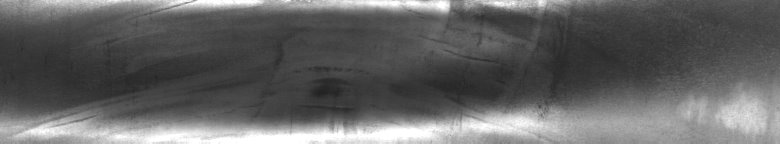ke: (17, 4, 624, 136)
